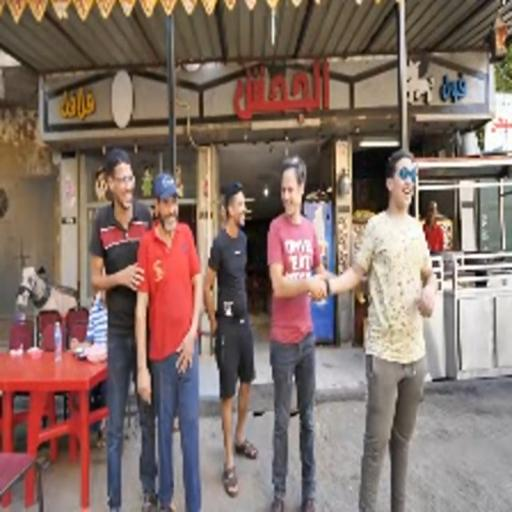nao-violencia: (73, 131, 446, 512)
